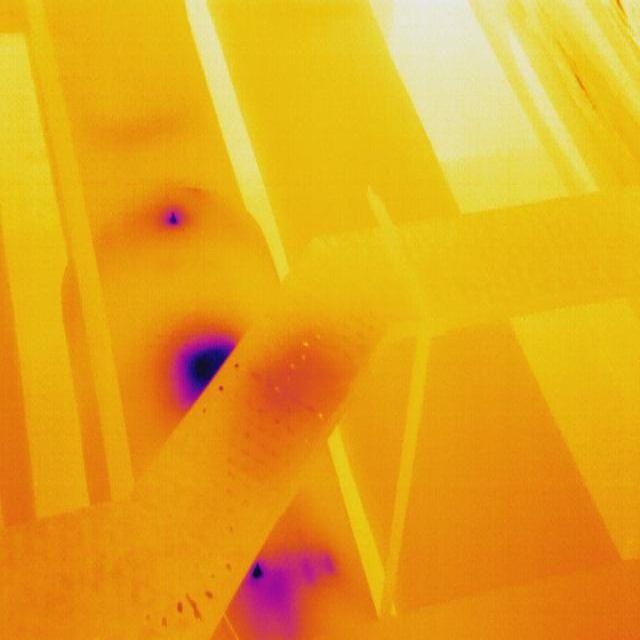leakage: (251, 335, 346, 457), (243, 553, 337, 630), (158, 322, 243, 402), (162, 203, 190, 230)
